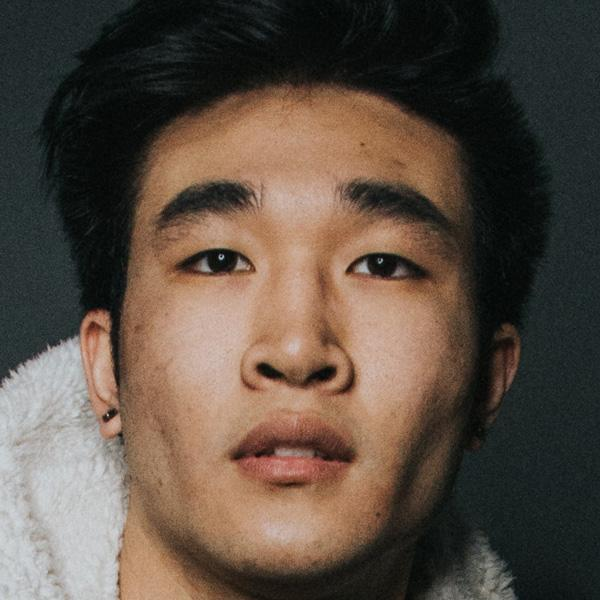Eyes: (167, 231, 262, 293), (340, 240, 435, 291)
